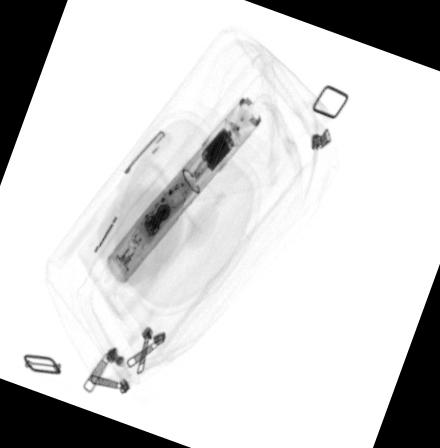Baton: (105, 91, 263, 285)
